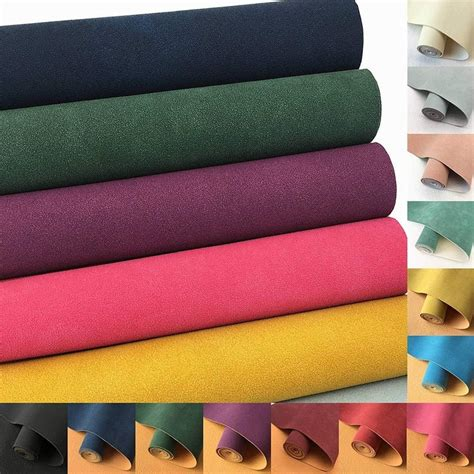gamuza: (1, 2, 474, 472)
